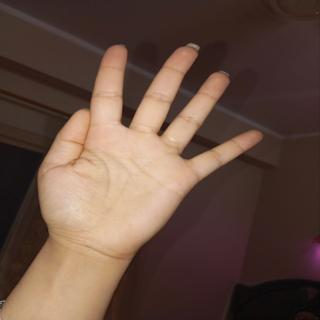SHEEN: (36, 35, 260, 264)
